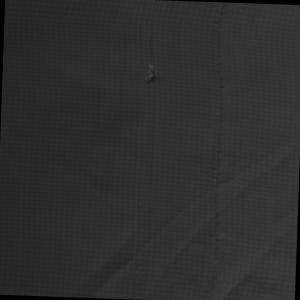Damage: (134, 59, 168, 92)
Wrinkle: (73, 116, 300, 300)
